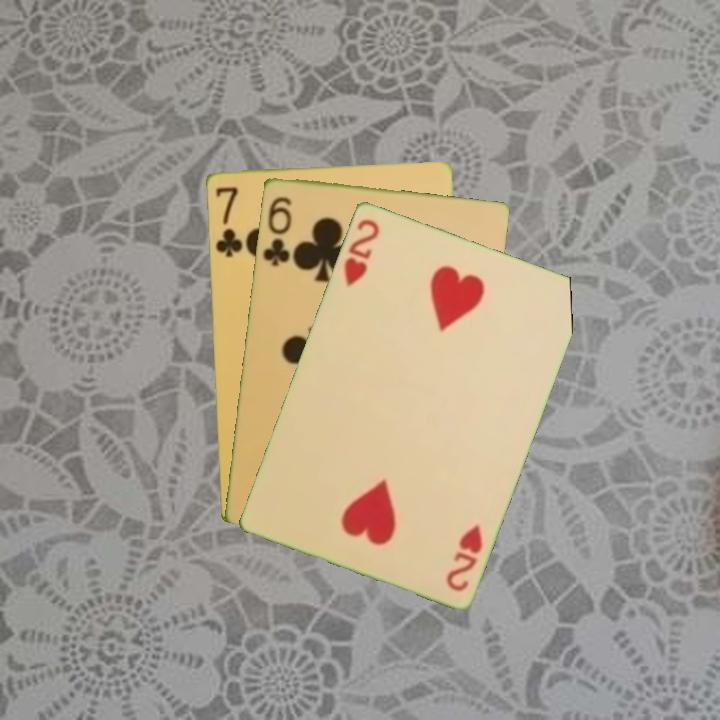2h: (442, 520, 485, 594), (340, 215, 382, 290)
6c: (258, 192, 294, 268)
7c: (211, 182, 245, 260)
